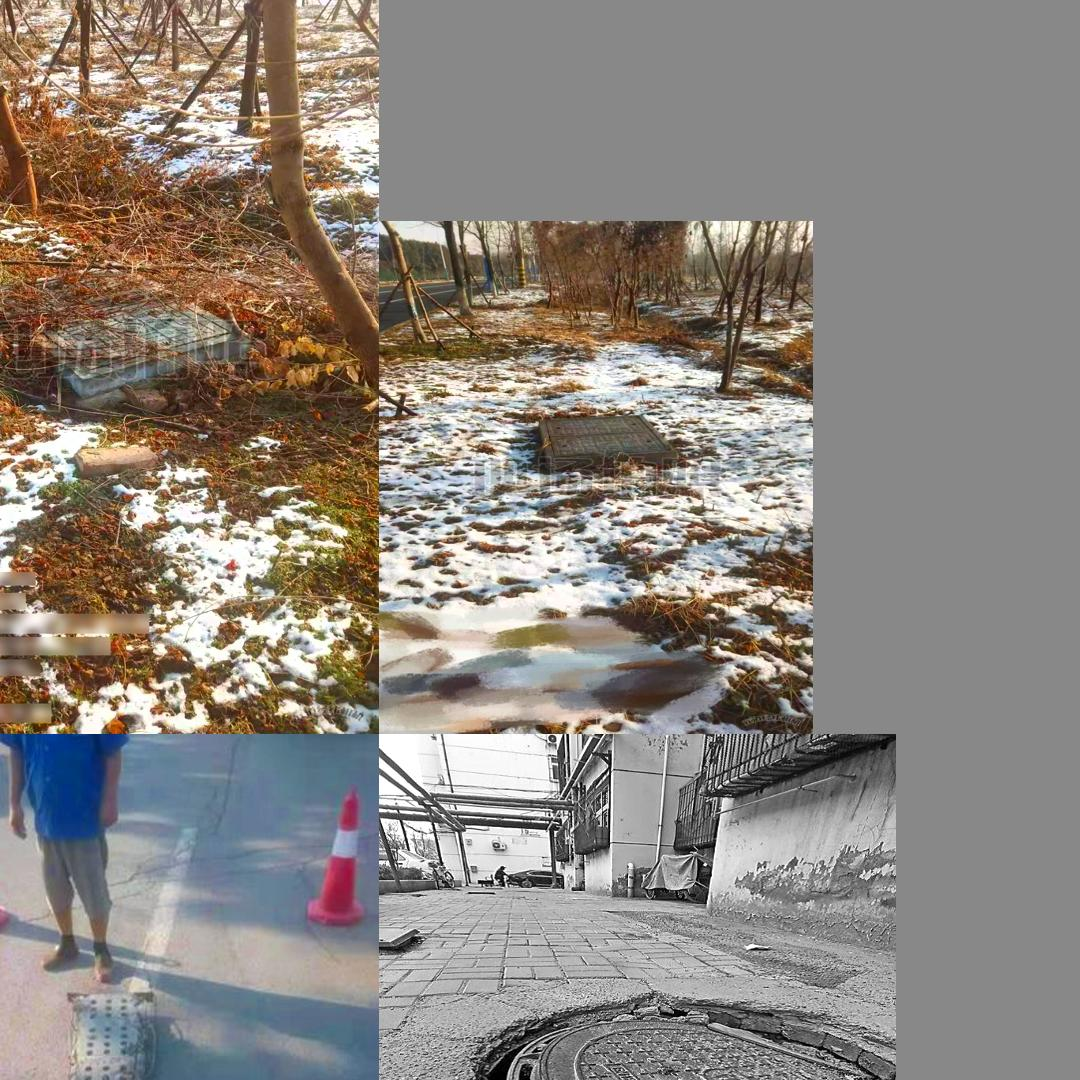circle: (447, 978, 895, 1080), (0, 261, 254, 403), (532, 414, 687, 477)
